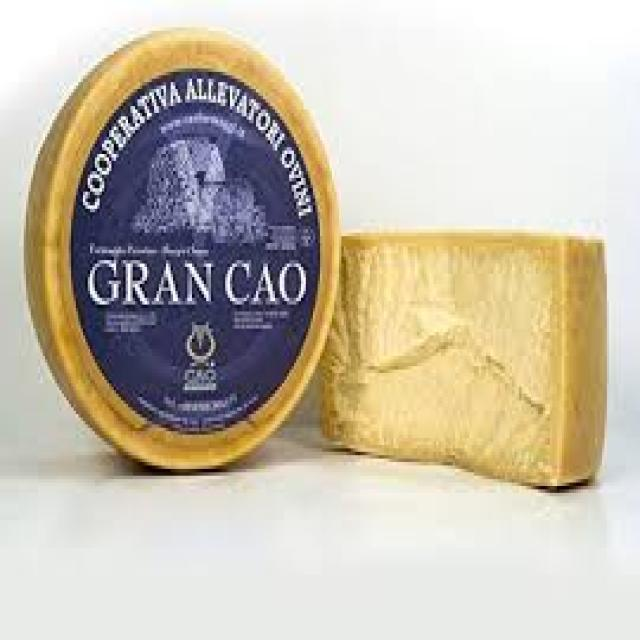Cheese: (20, 22, 336, 485), (317, 215, 604, 510)
